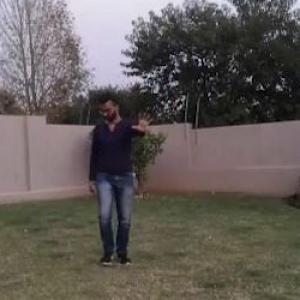follow_hand: (131, 108, 156, 134)
